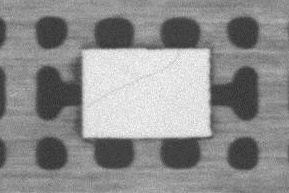DIE_CRACK: (88, 54, 180, 108)
